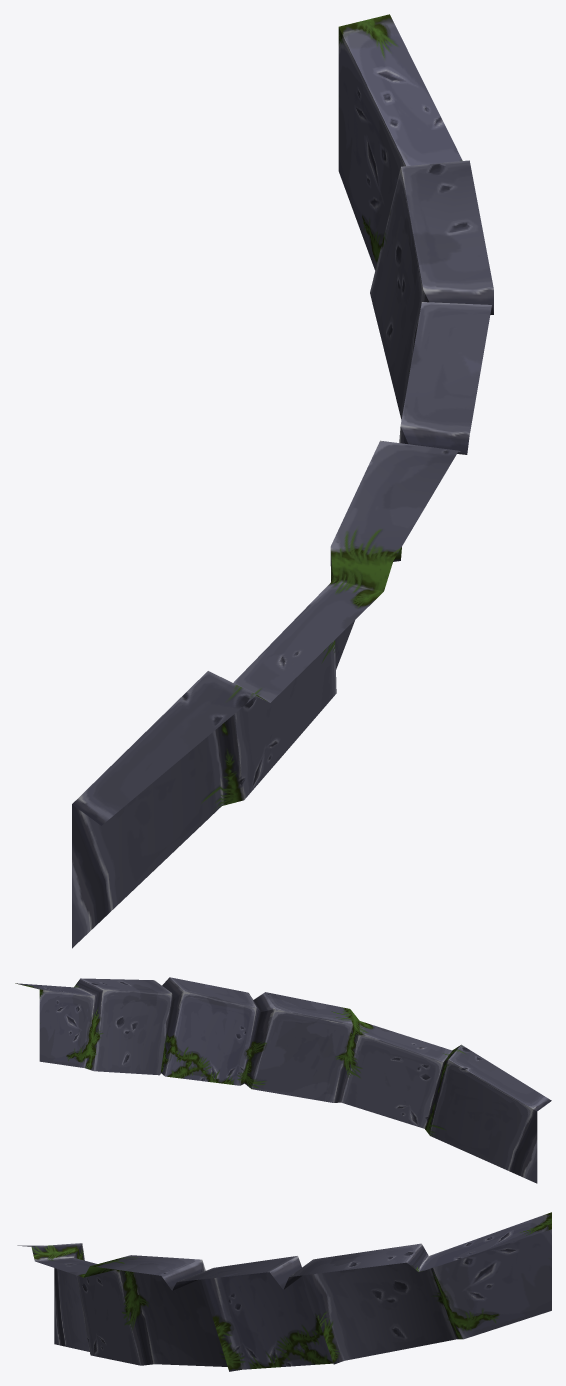
Rendered from MOD_Stairs_01_WallTrim_SW.fbx.
The picture shows the model from 3 angles, top to bottom: view 1: azimuth 30°, elevation 25°; view 2: azimuth 150°, elevation 25°; view 3: azimuth 270°, elevation 25°; orthographic projection. The views are drawn at different scales.
Parts seen in each view (by area): view 1: MOD_Stairs_01_WallTrim_SW; view 2: MOD_Stairs_01_WallTrim_SW; view 3: MOD_Stairs_01_WallTrim_SW.
Part boxes in pixels (x1,y1,x2,y2): MOD_Stairs_01_WallTrim_SW: (72, 14, 493, 948); MOD_Stairs_01_WallTrim_SW: (15, 977, 551, 1183); MOD_Stairs_01_WallTrim_SW: (17, 1212, 551, 1371).
Size of what is drawn, in the model's own units: 400 by 281 by 400.
